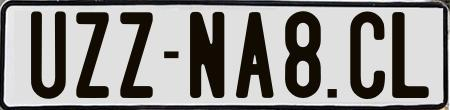8: (284, 10, 320, 102)
A: (235, 12, 277, 103)
C: (348, 9, 387, 97)
L: (390, 9, 427, 99)
N: (187, 11, 221, 102)
U: (29, 8, 70, 97)
Z: (120, 9, 157, 96), (73, 11, 107, 101)
